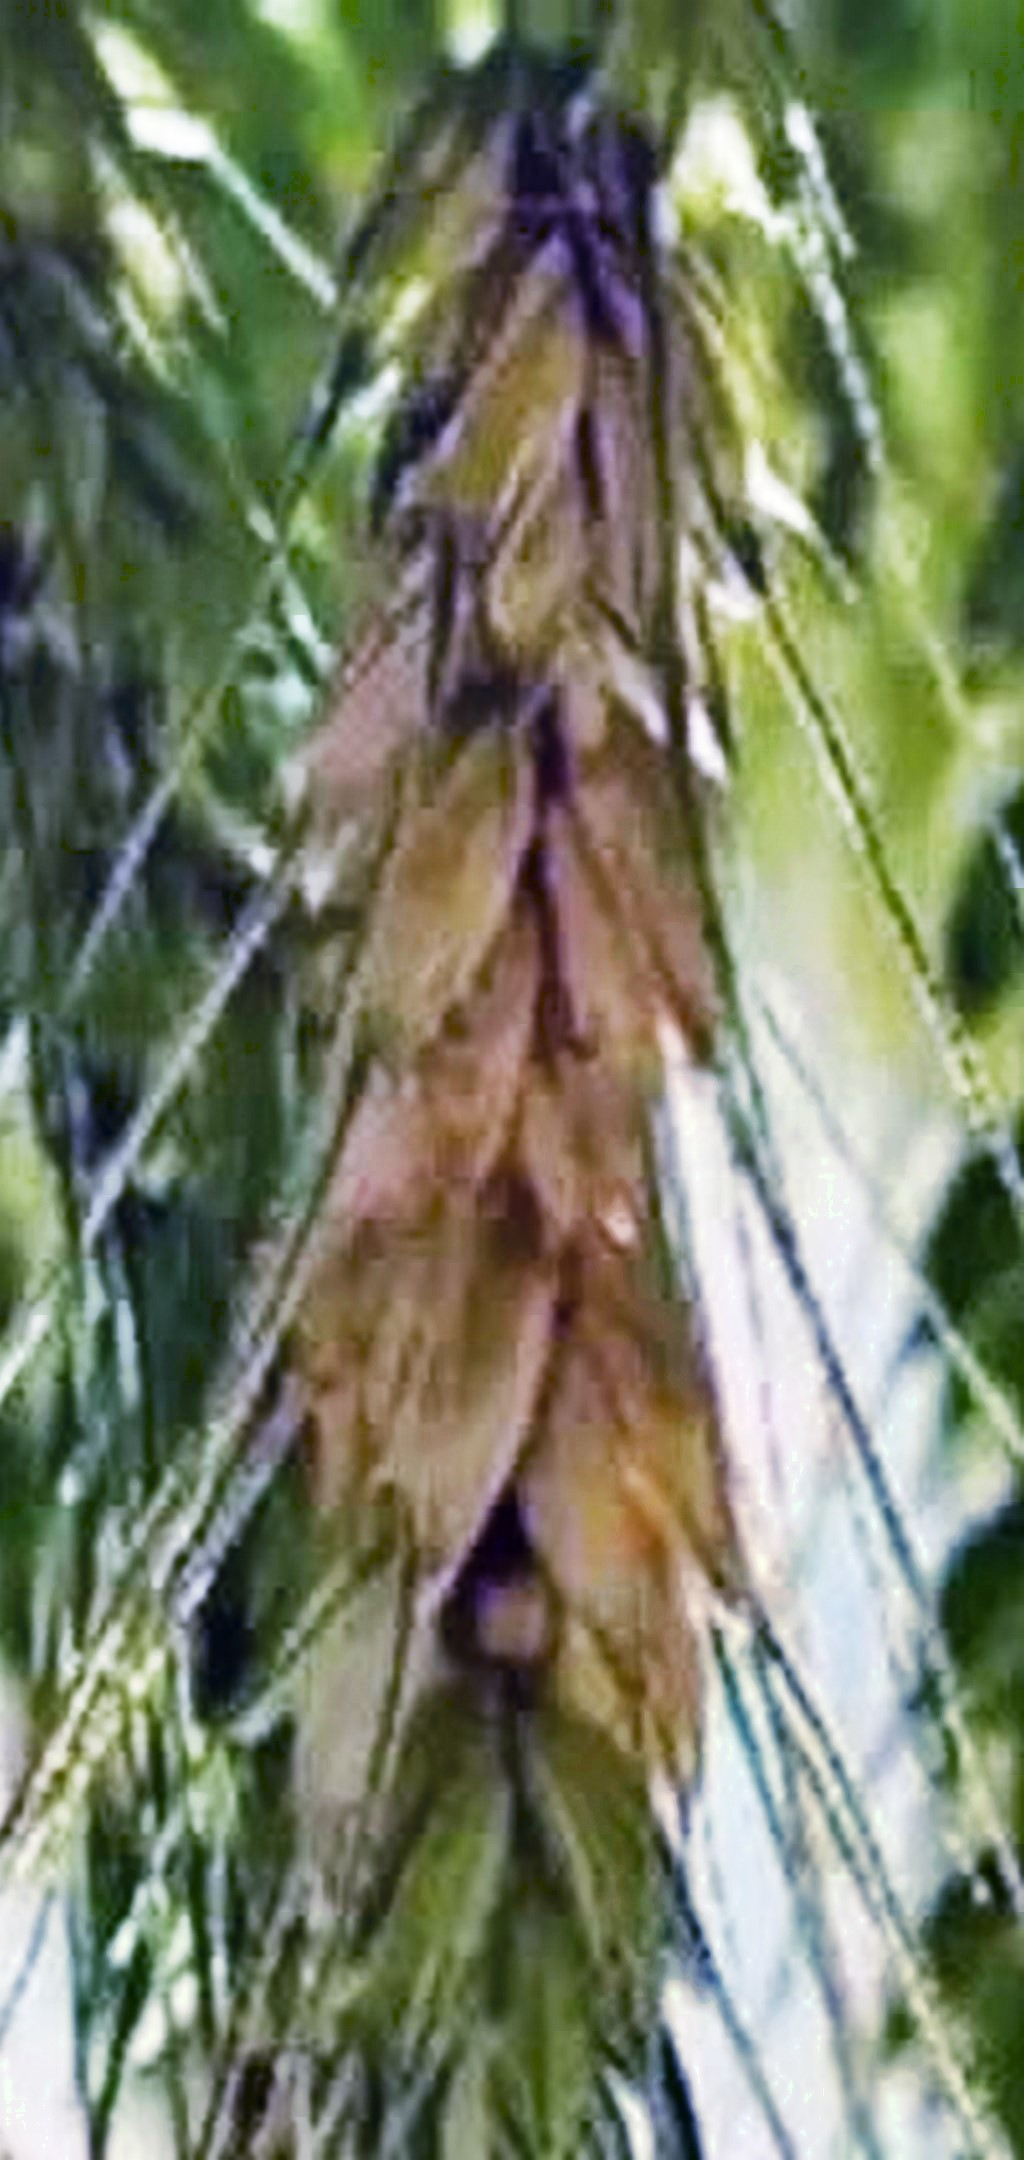Wheat scab: (267, 17, 815, 1993)
